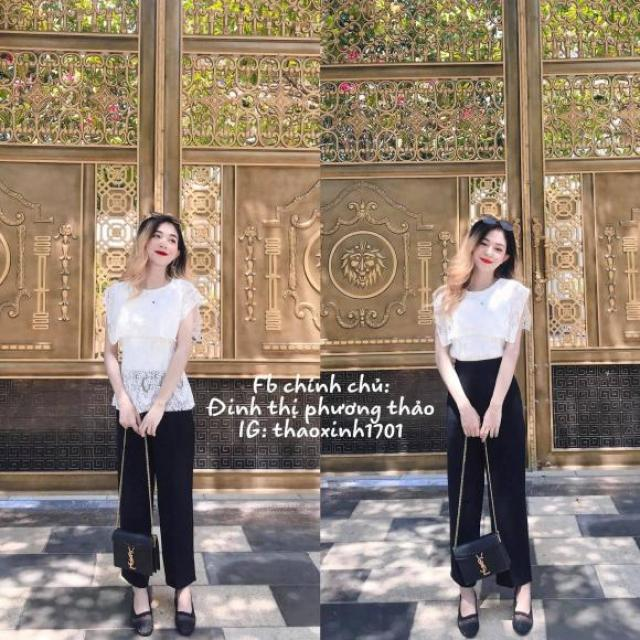clothes: (428, 276, 541, 588), (100, 277, 202, 592)
